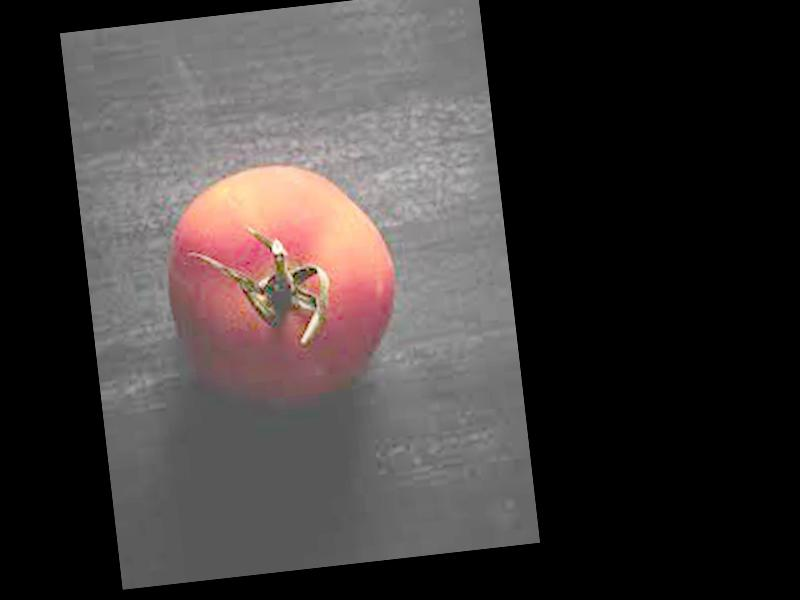Tomato: (159, 152, 406, 410)
